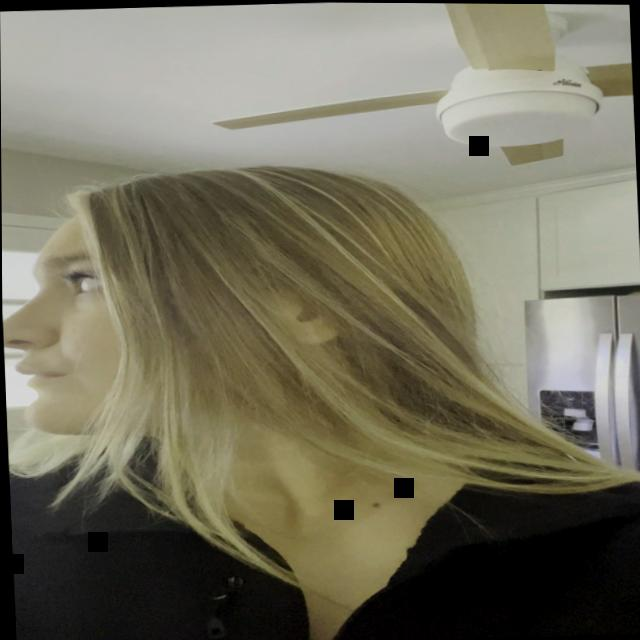NO-Mask: (1, 204, 158, 436)
